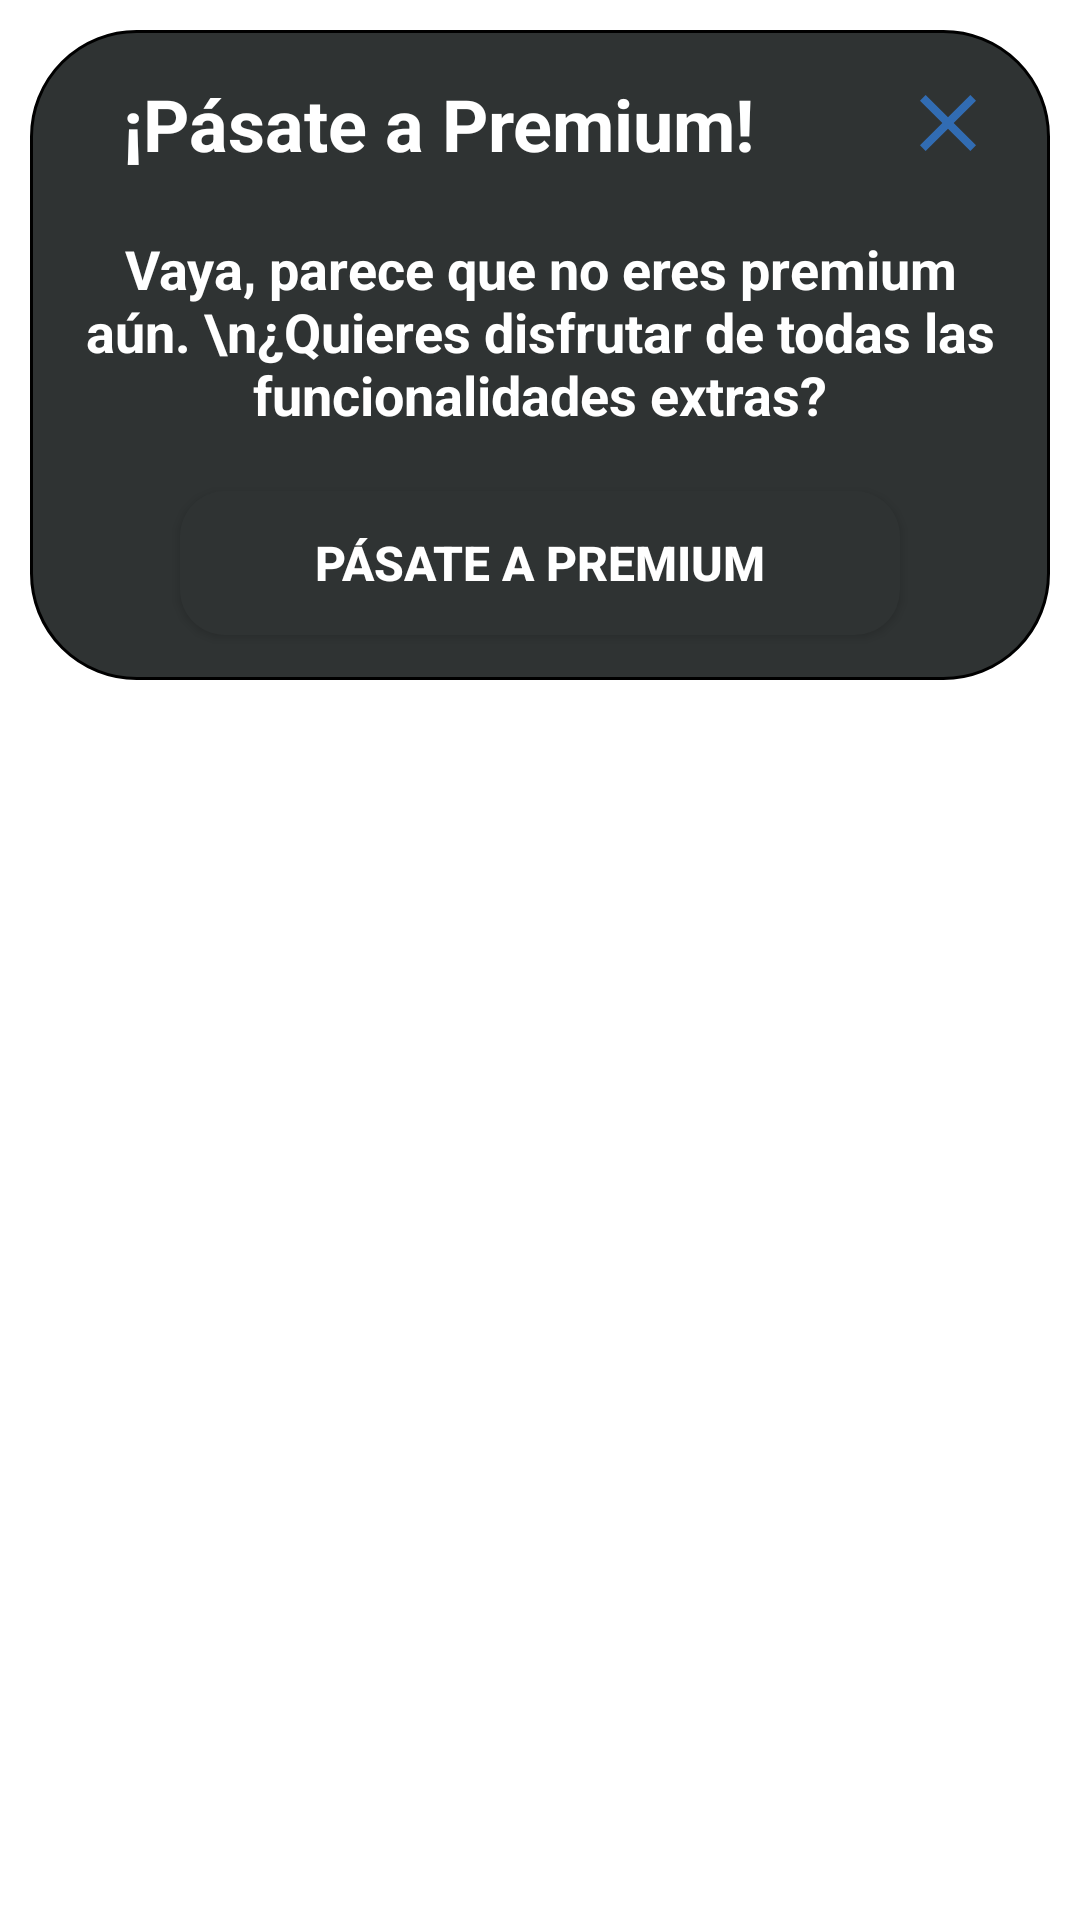

Icons on this 1080×1920 Android screen, each with the point to tap as point (x, y):
Cerrar: point (948, 123)
